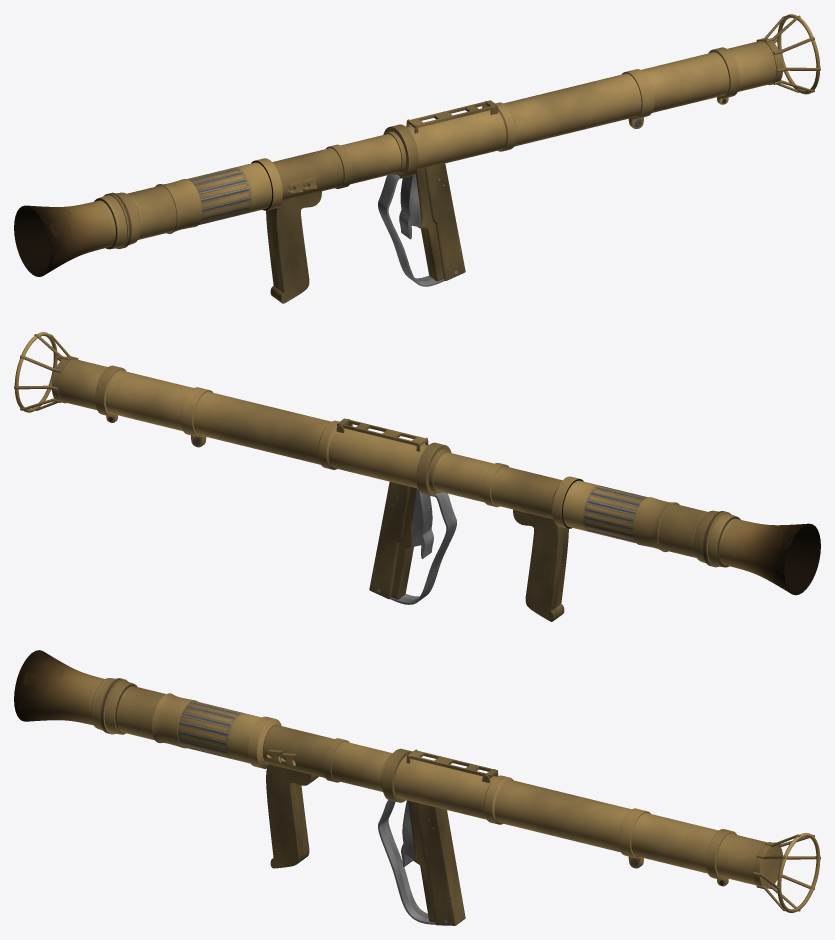
The model's file is netlauncher.fbx.
3 renders of one model, top to bottom at view 1: azimuth 30°, elevation 25°; view 2: azimuth 150°, elevation 25°; view 3: azimuth 330°, elevation 25°, orthographic.
Parts seen in each view (by area): view 1: netlauncher; view 2: netlauncher; view 3: netlauncher.
Boxes of the visible parts, bbox=[...] form: netlauncher: bbox=[14, 14, 820, 303]; netlauncher: bbox=[14, 332, 820, 621]; netlauncher: bbox=[14, 650, 820, 925].
Size of the model in its own units: 165 by 36.05 by 15.65.
Materials: 1 (1 with a texture image).
